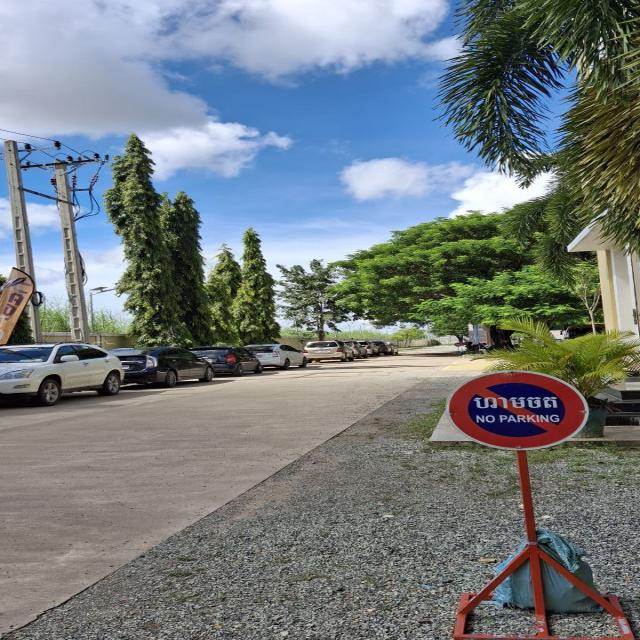Yolov11kh: (462, 386, 571, 414)
